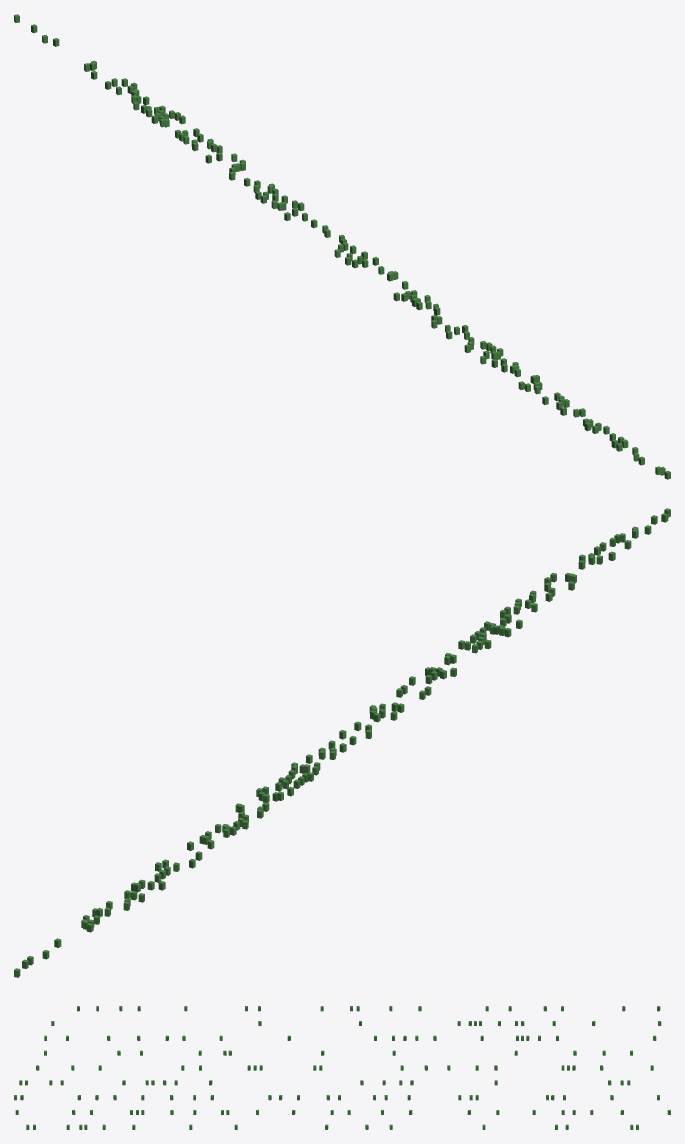
File: CrowdE_CrowdGreen.fbx
3 renders of one model, top to bottom at view 1: azimuth 30°, elevation 25°; view 2: azimuth 150°, elevation 25°; view 3: azimuth 270°, elevation 25°, orthographic. The views are drawn at different scales.
Visible parts, largest first — view 1: FanE3.001; view 2: FanE3.001; view 3: FanE3.001.
Part boxes in pixels (bbox=[...]): FanE3.001: bbox=[14, 14, 670, 479]; FanE3.001: bbox=[14, 508, 670, 977]; FanE3.001: bbox=[14, 1006, 670, 1129].
Size of the model in its own units: 4125 by 3370 by 25439.
